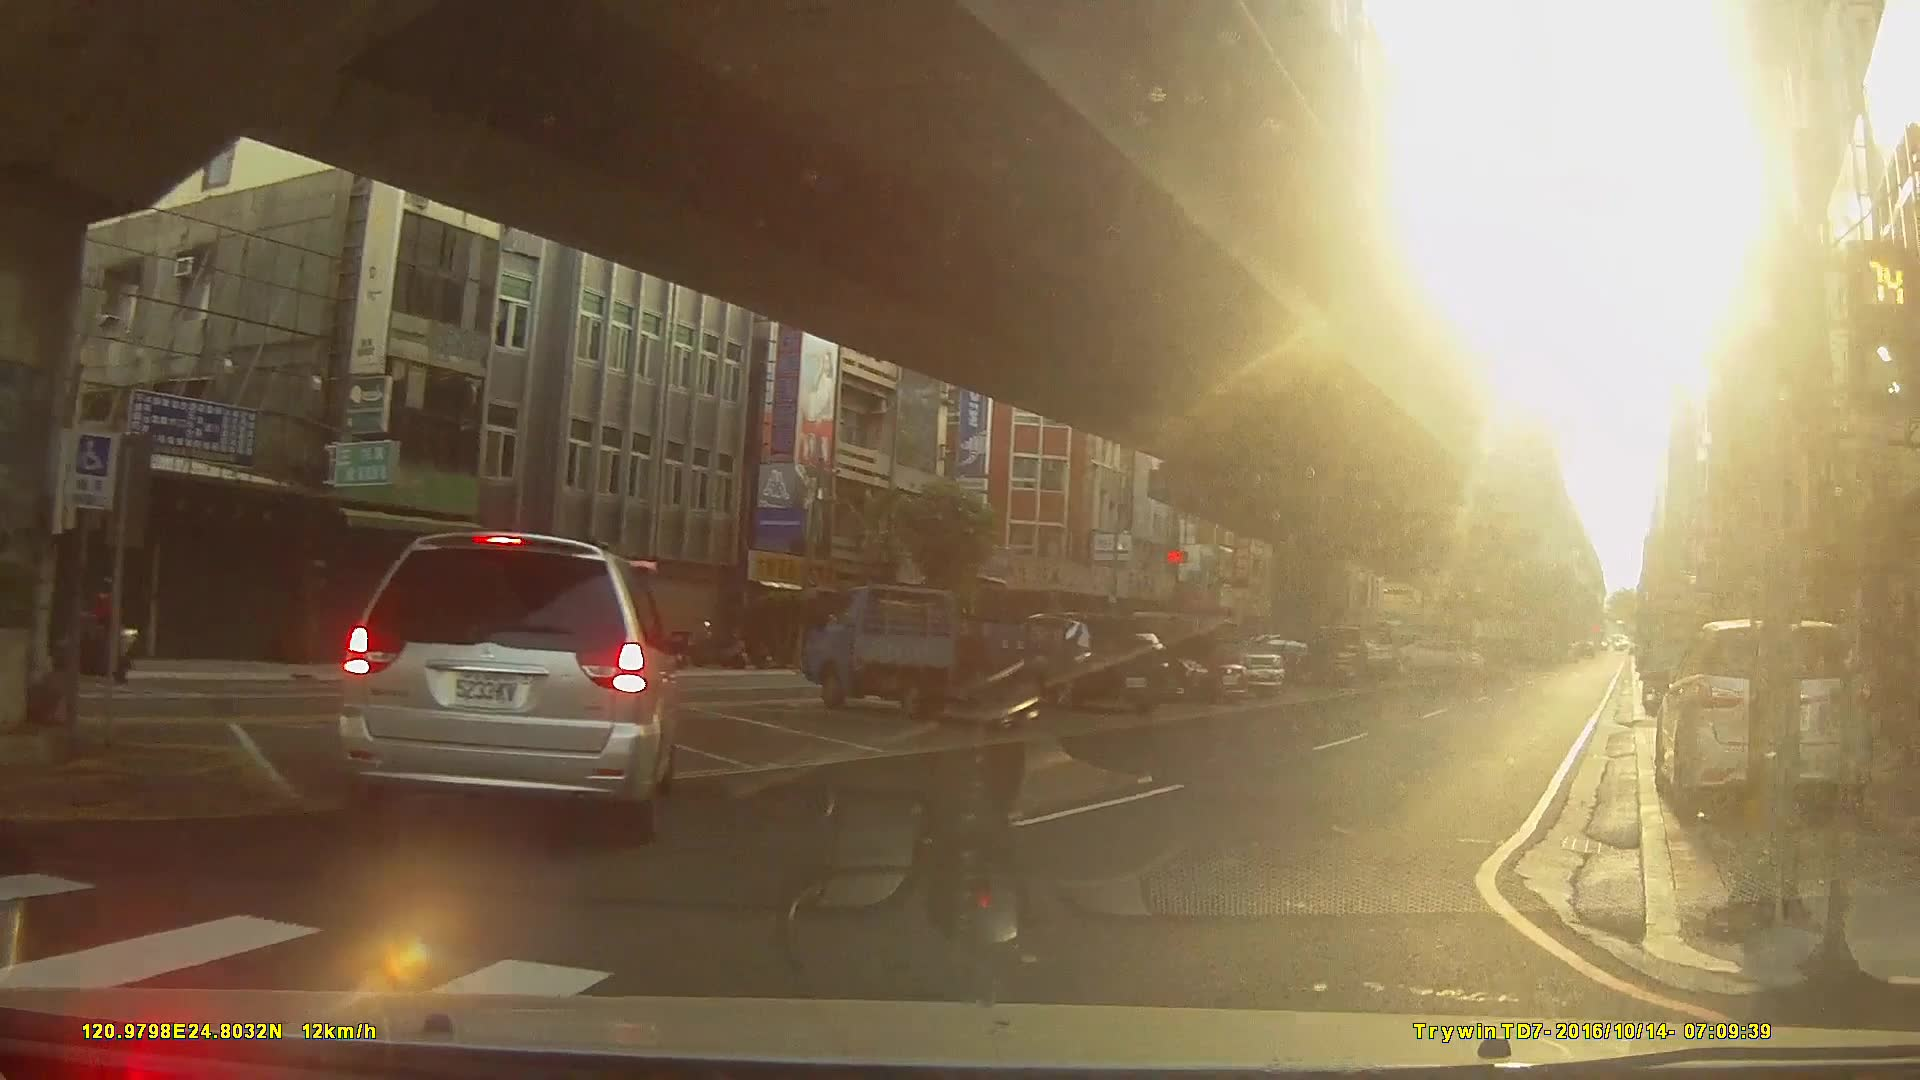rider: (61, 577, 145, 690)
vehicle: (336, 530, 678, 840), (1652, 619, 1875, 825), (799, 585, 1051, 725), (988, 615, 1169, 719), (1083, 623, 1250, 707), (1220, 632, 1338, 686)
